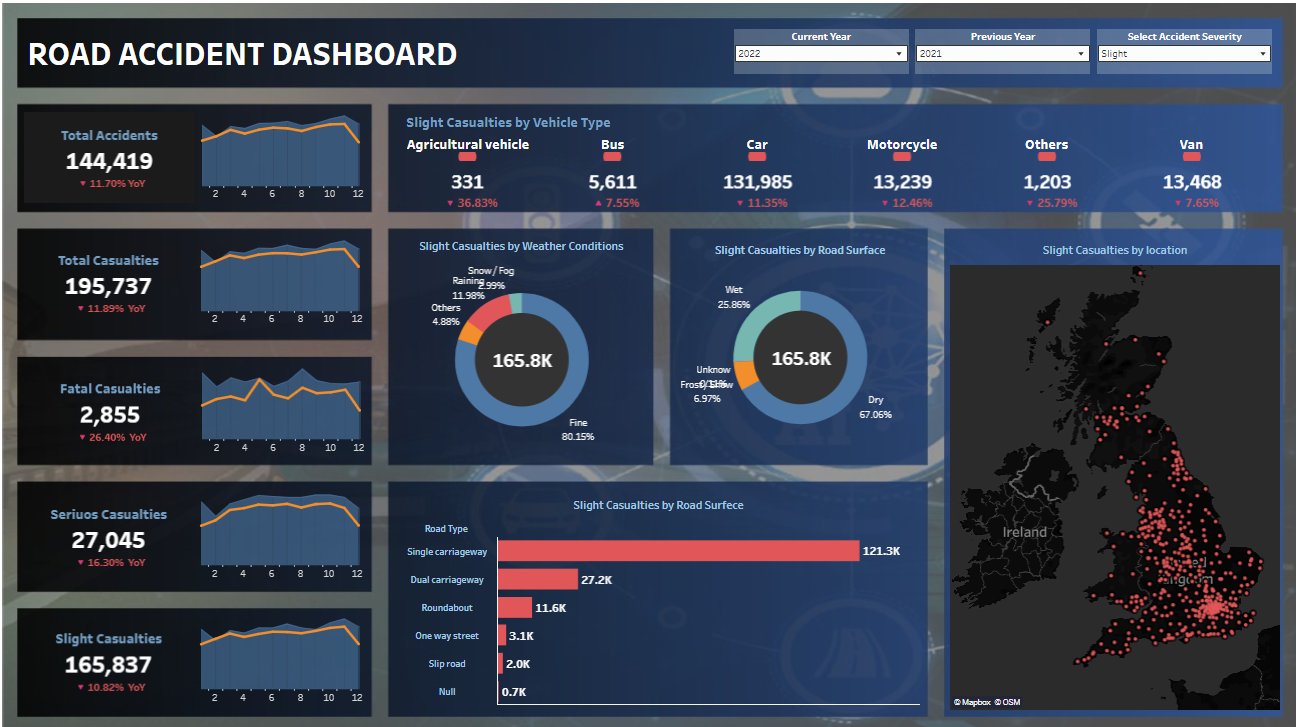

The page's visual inventory and layout, read from the dashboard file:
{"tool":"powerbi","page":{"name":"Página 1","canvas":[1920,1080],"ordinal":0},"visuals":[{"type":"card","title":"Total CY Casualties","fields":{"Values":["Measures (2).CY casualties"]},"box":[21.7,141.2,347.5,126.7],"z":0},{"type":"card","fields":{"Values":["Measures (2).YoY Casualties"]},"box":[110.4,255.2,139.3,54.3],"z":1000},{"type":"card","title":"Total CY Accidents","fields":{"Values":["Measures (2).CY Accidents Counts"]},"box":[396.5,138.1,347.5,126.7],"z":2000},{"type":"card","fields":{"Values":["Measures (2).YoY Accidents"]},"box":[485.2,252.1,139.3,54.3],"z":3000},{"type":"card","title":"CY Fatal Casualties","fields":{"Values":["Measures (2).CY casualties"]},"box":[783.1,139.6,347.5,126.7],"z":4000},{"type":"card","fields":{"Values":["Measures (2).YoY Casualties"]},"box":[871.8,253.6,139.3,54.3],"z":5000},{"type":"card","title":"CY Serious Casualties","fields":{"Values":["Measures (2).CY casualties"]},"box":[1168.5,139.7,347.5,126.7],"z":6000},{"type":"card","fields":{"Values":["Measures (2).YoY Casualties"]},"box":[1257.2,253.7,139.3,54.3],"z":7000},{"type":"card","title":"CY Slight Casualties","fields":{"Values":["Measures (2).CY casualties"]},"box":[1545.7,139.8,347.5,126.7],"z":8000},{"type":"card","fields":{"Values":["Measures (2).YoY Casualties"]},"box":[1634.4,253.8,139.3,54.3],"z":9000},{"type":"textbox","box":[21.7,14.5,937.4,99.5],"z":10000},{"type":"multiRowCard","fields":{"Values":["Data.Vehicle_Type (grupos)","Measures (2).CY casualties"]},"box":[181,412.6,204.5,557.4],"z":11000},{"type":"image","box":[70.6,845.1,110.4,88.7],"z":12000},{"type":"image","box":[85.1,589.9,95.9,79.6],"z":13000},{"type":"image","box":[65.1,673.2,124.9,92.3],"z":14000},{"type":"image","box":[61.5,416.2,128.5,86.9],"z":15000},{"type":"image","box":[72.4,765.5,110.4,76],"z":16000},{"type":"image","box":[72.4,503.1,132.1,103.2],"z":17000},{"type":"textbox","box":[47.1,354.7,309.5,45.2],"z":18000},{"type":"areaChart","title":"CY Casualties vs PY Casualties Monthly Trend","fields":{"Category":["Calendar.Month"],"Y":["Sum(Data.Number_of_Casualties)"],"Series":["Calendar.Date.Variación.Jerarquía de fechas.Año"]},"box":[396.3,333,669.6,340.2],"z":19000},{"type":"donutChart","title":"Casualties por Urban / Rural","fields":{"Category":["Data.Urban_or_Rural_Area"],"Y":["Measures (2).CY casualties"]},"box":[1096.7,333,360.1,340.2],"z":20000},{"type":"donutChart","title":"Casualties by light conditions","fields":{"Y":["Measures (2).CY casualties"],"Category":["Data.Light_Conditions (grupos) 2"]},"box":[1096.7,704,360.1,340.2],"z":21000},{"type":"barChart","title":"Casualties by Road Type","fields":{"Category":["Data.Road_Type"],"Y":["Measures (2).CY casualties"]},"box":[396.3,704,669.6,340.2],"z":22000},{"type":"map","title":"Casualty by Location","fields":{"Y":["Data.Latitude"],"X":["Data.Longitude"],"Category":["Data.Local_Authority_(District)"]},"box":[1485.7,333,407.2,711.2],"z":23000},{"type":"slicer","fields":{"Values":["Data.Weather_Conditions (grupos)"]},"box":[1596.1,25.3,284.1,81.4],"z":24000},{"type":"slicer","fields":{"Values":["Data.Road_Surface_Conditions (grupos)"]},"box":[1312,25.3,284.1,81.4],"z":25000}]}

Visuals, with their boxes in screenshot pixels (x1, y1, x2, y2), scaled from the page's 1920x1080 canvas onto the 1296x727 screenshot:
"Total CY Casualties" card: [x1=15, y1=95, x2=249, y2=180]
card - Measures (2).YoY Casualties: [x1=75, y1=172, x2=169, y2=208]
"Total CY Accidents" card: [x1=268, y1=93, x2=502, y2=178]
card - Measures (2).YoY Accidents: [x1=328, y1=170, x2=422, y2=206]
"CY Fatal Casualties" card: [x1=529, y1=94, x2=763, y2=179]
card - Measures (2).YoY Casualties: [x1=588, y1=171, x2=682, y2=207]
"CY Serious Casualties" card: [x1=789, y1=94, x2=1023, y2=179]
card - Measures (2).YoY Casualties: [x1=849, y1=171, x2=943, y2=207]
"CY Slight Casualties" card: [x1=1043, y1=94, x2=1278, y2=179]
card - Measures (2).YoY Casualties: [x1=1103, y1=171, x2=1197, y2=207]
textbox: [x1=15, y1=10, x2=647, y2=77]
multiRowCard - Data.Vehicle_Type (grupos) x Measures (2).CY casualties: [x1=122, y1=278, x2=260, y2=653]
image: [x1=48, y1=569, x2=122, y2=629]
image: [x1=57, y1=397, x2=122, y2=451]
image: [x1=44, y1=453, x2=128, y2=515]
image: [x1=42, y1=280, x2=128, y2=339]
image: [x1=49, y1=515, x2=123, y2=566]
image: [x1=49, y1=339, x2=138, y2=408]
textbox: [x1=32, y1=239, x2=241, y2=269]
"CY Casualties vs PY Casualties Monthly Trend" areaChart: [x1=268, y1=224, x2=719, y2=453]
"Casualties por Urban / Rural" donutChart: [x1=740, y1=224, x2=983, y2=453]
"Casualties by light conditions" donutChart: [x1=740, y1=474, x2=983, y2=703]
"Casualties by Road Type" barChart: [x1=268, y1=474, x2=719, y2=703]
"Casualty by Location" map: [x1=1003, y1=224, x2=1278, y2=703]
slicer - Data.Weather_Conditions (grupos): [x1=1077, y1=17, x2=1269, y2=72]
slicer - Data.Road_Surface_Conditions (grupos): [x1=886, y1=17, x2=1077, y2=72]
